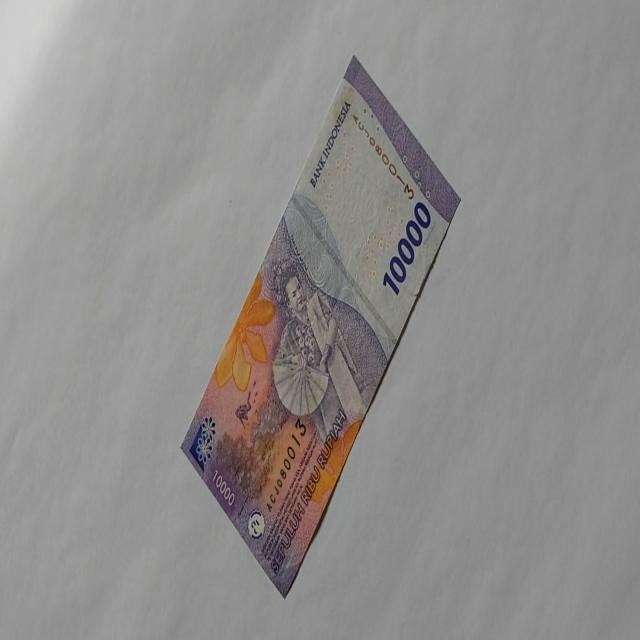sepuluh ribu rupiah: (179, 54, 461, 598)
